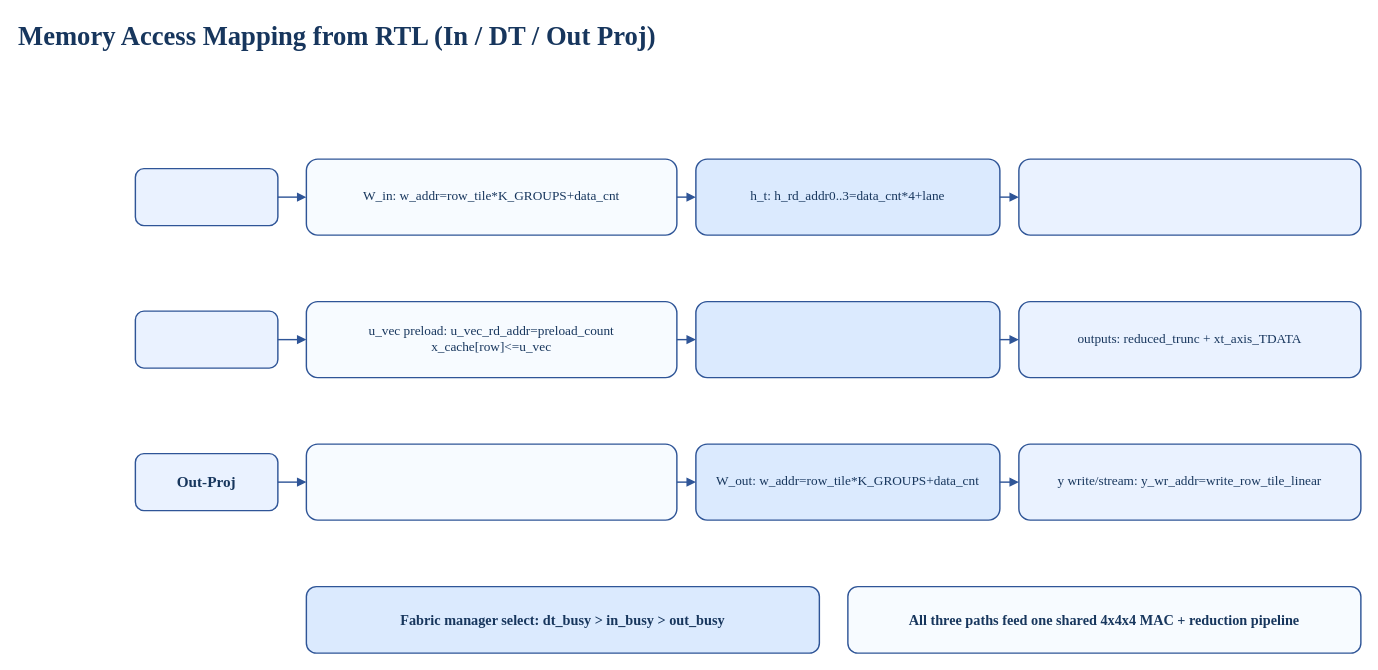
The diagram is 1378 pixels wide and 670 high, and some of its shapes have lost their labels. The box of each missing label's shape, as (x1, y1, x2, y2) in pixels:
DT-Proj: (134, 310, 278, 368)
In-Proj: (134, 167, 278, 226)
p_t read: p_rd_addr0..3=data_cnt*4+lane: (305, 443, 677, 520)
u/z write: out_wr_addr=write_row_tile_linear: (1018, 158, 1361, 235)
W_dt: w_addr=row_idx*GROUPS+data_cnt B index=data_cnt*4+lane: (695, 300, 1000, 378)
